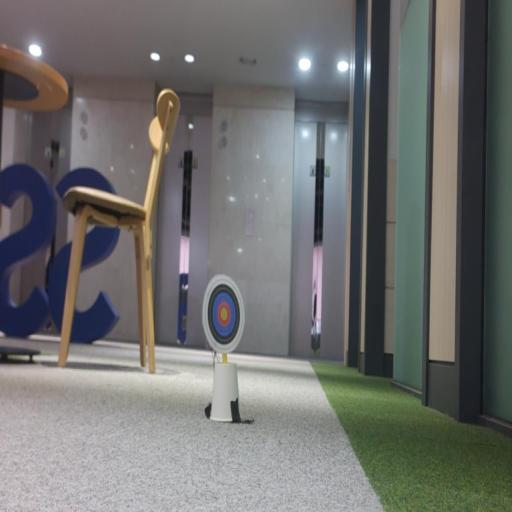target: (202, 274, 244, 353)
